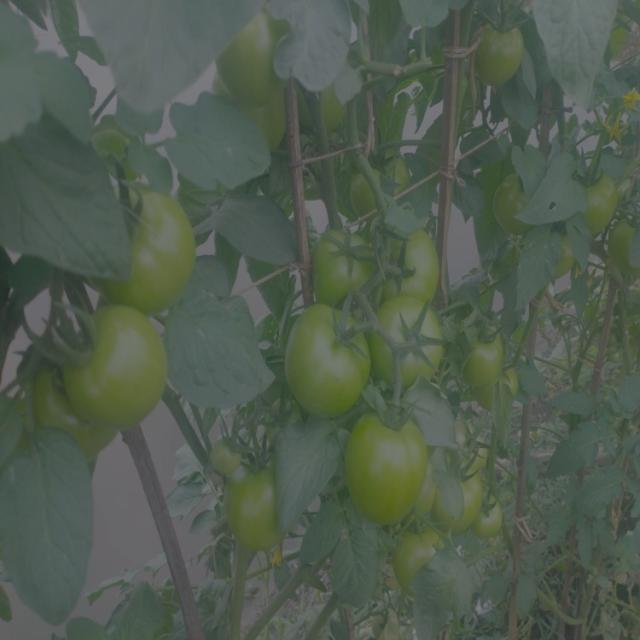tomato: (46, 300, 173, 416), (100, 183, 205, 303), (275, 308, 369, 421), (343, 406, 432, 522), (462, 10, 542, 89), (215, 12, 290, 94), (377, 309, 448, 394), (456, 321, 518, 406), (378, 228, 444, 305), (483, 169, 545, 244), (222, 471, 274, 558), (310, 229, 370, 302), (570, 166, 628, 233), (435, 451, 482, 532), (386, 525, 443, 590), (229, 95, 296, 147), (599, 78, 640, 146), (311, 84, 363, 137), (339, 161, 394, 211), (205, 423, 251, 474), (474, 488, 508, 545)
